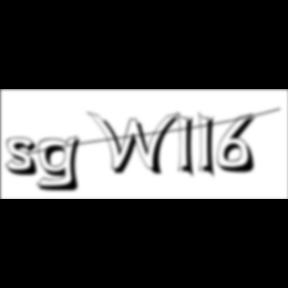6: (218, 112, 262, 176)
I: (177, 110, 201, 182), (198, 110, 222, 182)
W: (87, 110, 185, 178)
g: (36, 134, 88, 194)
s: (6, 137, 44, 179)
